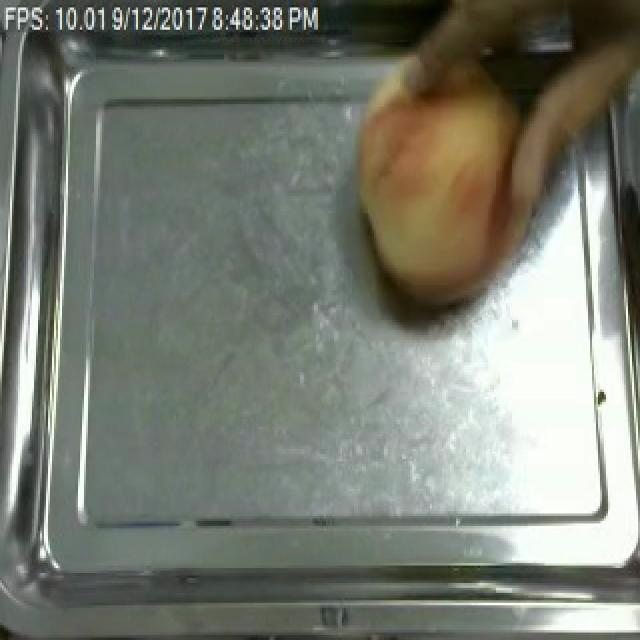Fruit: (336, 37, 546, 313)
